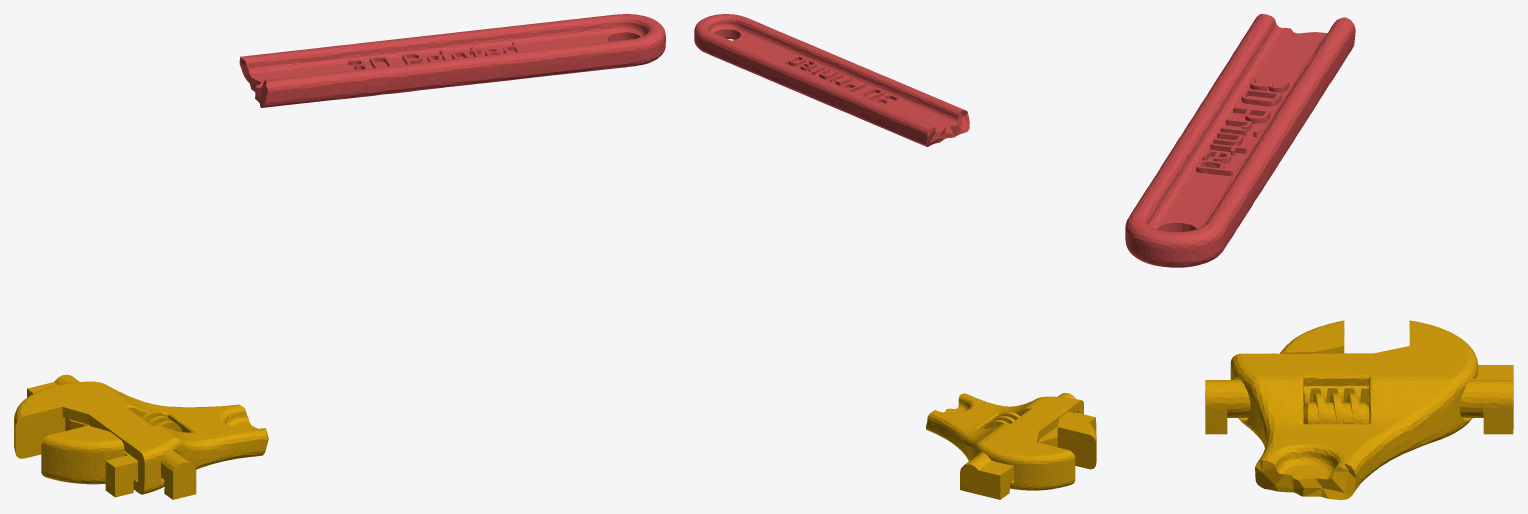
File: mode_1_2pcs_transformed.glb
3 views of the same model, side by side, from view 1: azimuth 30°, elevation 25°; view 2: azimuth 150°, elevation 25°; view 3: azimuth 270°, elevation 25° (orthographic). The views are drawn at different scales.
Parts seen in each view (by area): view 1: piece_1.obj, piece_0.obj; view 2: piece_1.obj, piece_0.obj; view 3: piece_0.obj, piece_1.obj.
Part boxes in pixels (x1,y1,x2,y2): piece_1.obj: (239, 14, 665, 107); piece_0.obj: (14, 374, 268, 499); piece_1.obj: (694, 14, 969, 146); piece_0.obj: (926, 393, 1096, 499); piece_0.obj: (1205, 320, 1513, 499); piece_1.obj: (1125, 14, 1355, 267).
Bounding box in the file's own units: 1 × 0.6434 × 0.473.
